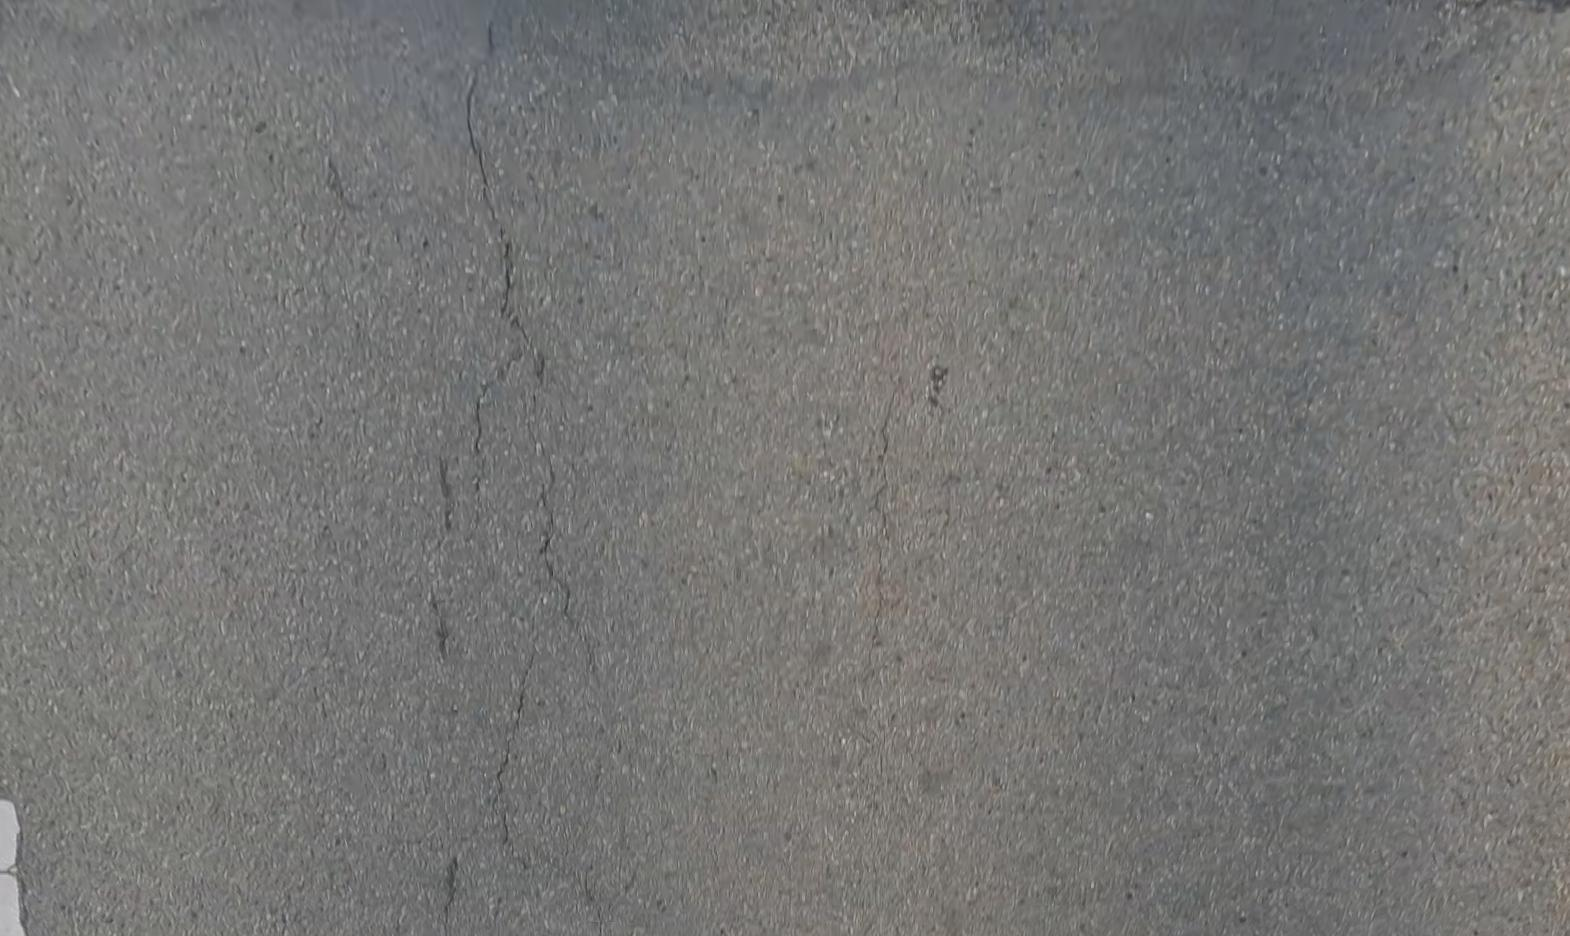pothole_patch_good: (499, 1, 1570, 109)
